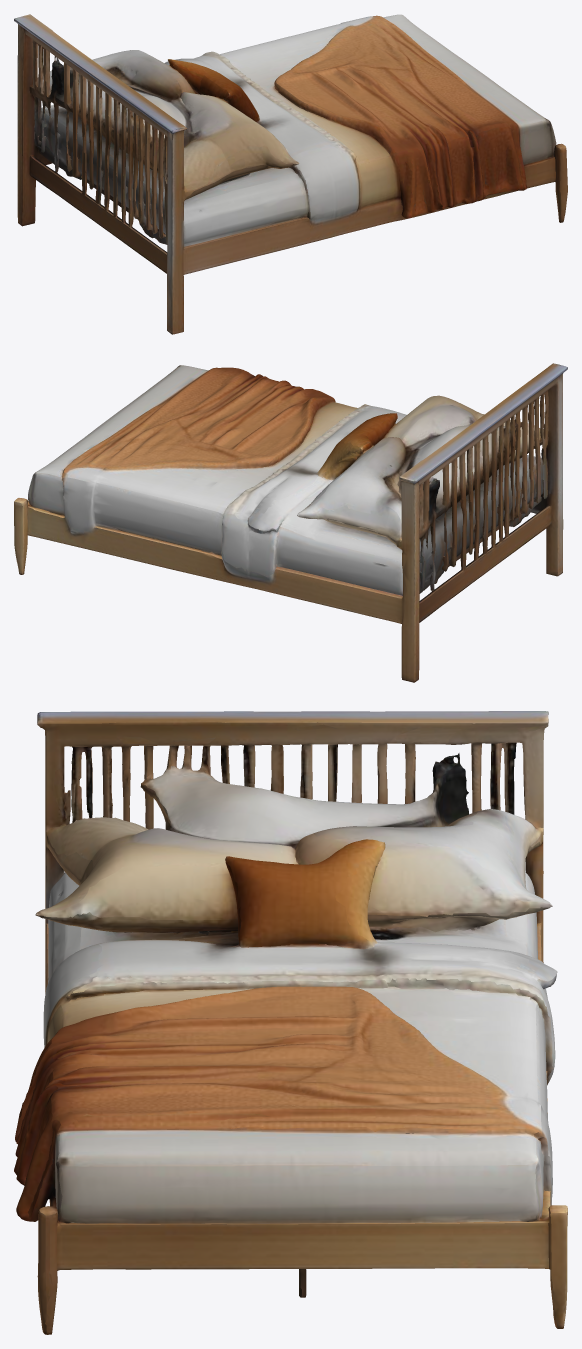
The model's file is bed-double.glb.
3 views of the same model, one above another, from view 1: azimuth 30°, elevation 25°; view 2: azimuth 150°, elevation 25°; view 3: azimuth 270°, elevation 25° (orthographic). The views are drawn at different scales.
Visible parts, largest first — view 1: bed_s42_d.glb; view 2: bed_s42_d.glb; view 3: bed_s42_d.glb.
Boxes of the visible parts, <box> form: bed_s42_d.glb: <box>14,14,567,334</box>; bed_s42_d.glb: <box>14,363,567,682</box>; bed_s42_d.glb: <box>14,711,567,1334</box>.
Size of the model in its own units: 2.05 by 1.05 by 1.5.
1 material, 1 textured.
